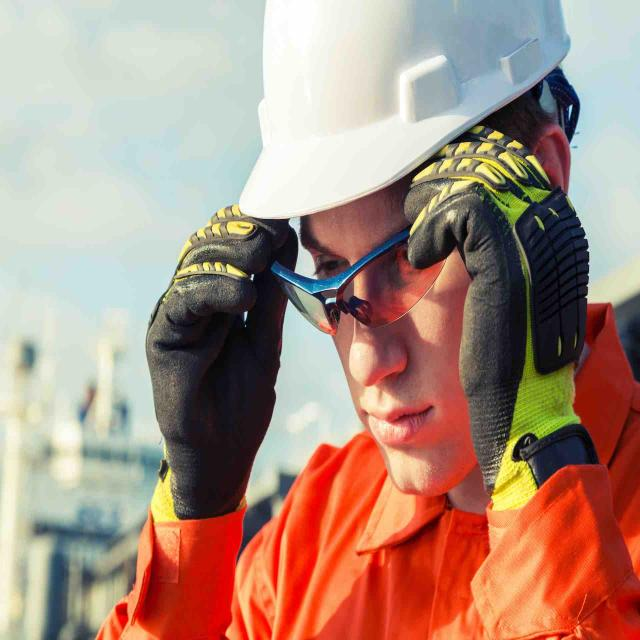goggles: (258, 237, 449, 332)
helmet: (226, 0, 569, 226)
vest: (307, 432, 573, 640)
